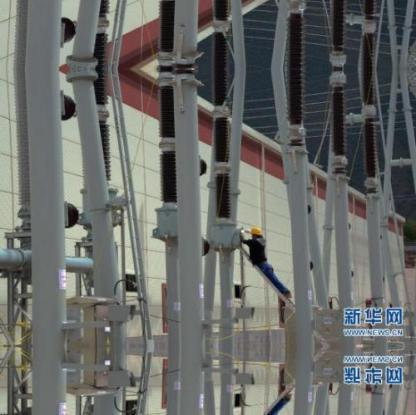helmet: (246, 221, 265, 240)
